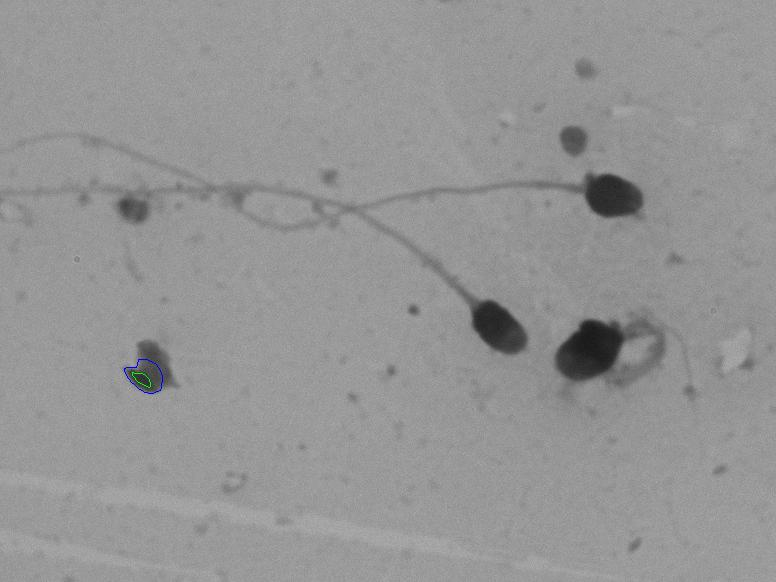Abnormal: (530, 293, 700, 464)
Normal: (2, 148, 556, 393), (18, 111, 665, 238)
